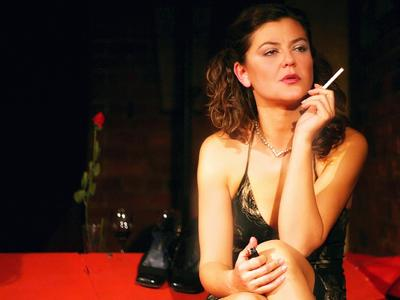person: (194, 6, 369, 298)
